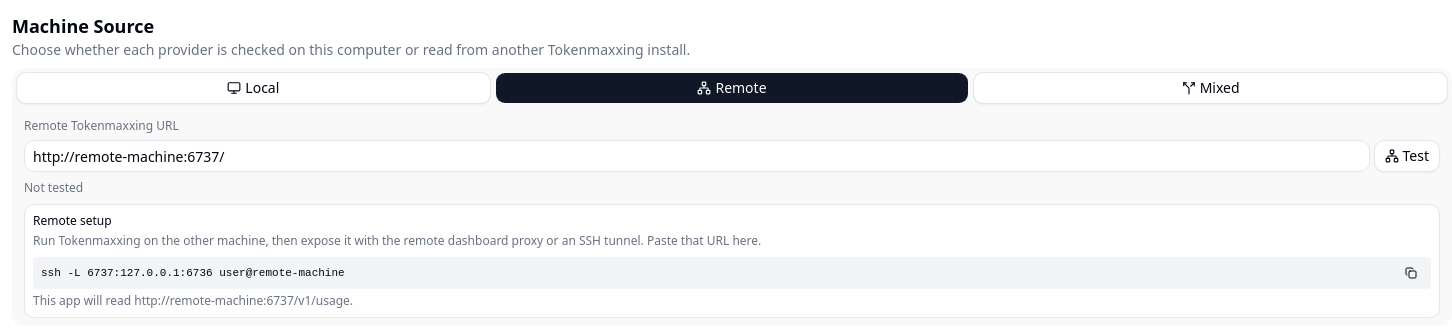
Test case: MachineSourceSection › tests a reachable remote usage endpoint
Click the button "Test" at x=1407, y=156, box top-left (1374, 140), bottom-right (1440, 172)
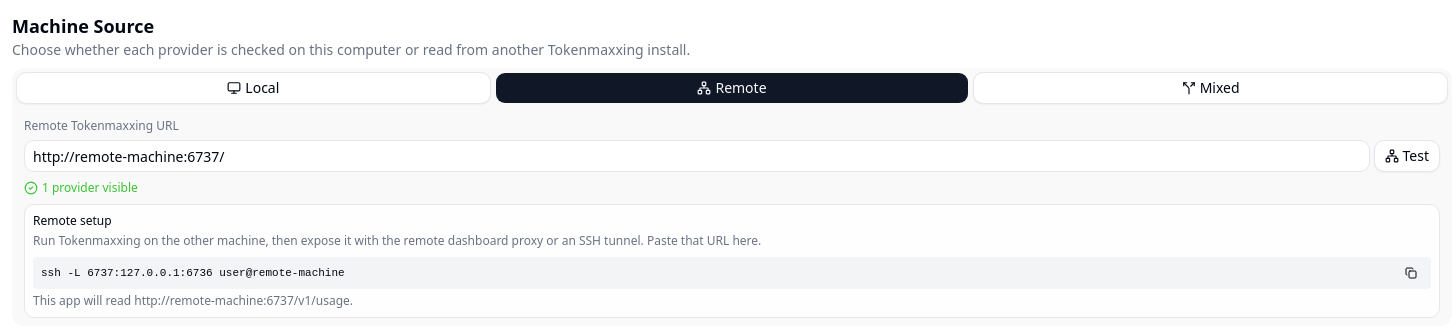
Expected: the text "1 provider visible" is shown, top-left (42, 180), bottom-right (138, 196)
